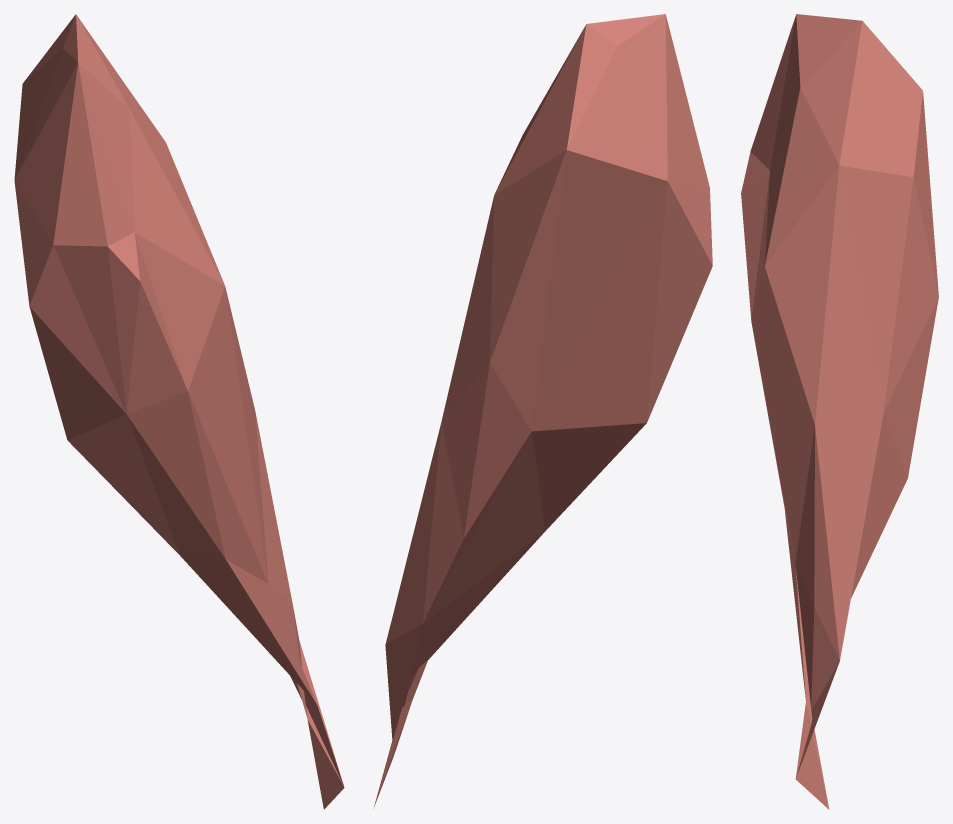
3 renders of one model, left to right at view 1: azimuth 30°, elevation 25°; view 2: azimuth 150°, elevation 25°; view 3: azimuth 270°, elevation 25°, orthographic. The views are drawn at different scales.
Parts seen in each view (by area): view 1: 763.obj; view 2: 763.obj; view 3: 763.obj.
Part boxes in pixels (x1,y1,x2,y2): 763.obj: (14,14,344,809); 763.obj: (373,14,712,808); 763.obj: (741,14,938,809).
Size of the model in its own units: 145 by 371 by 95.5.
